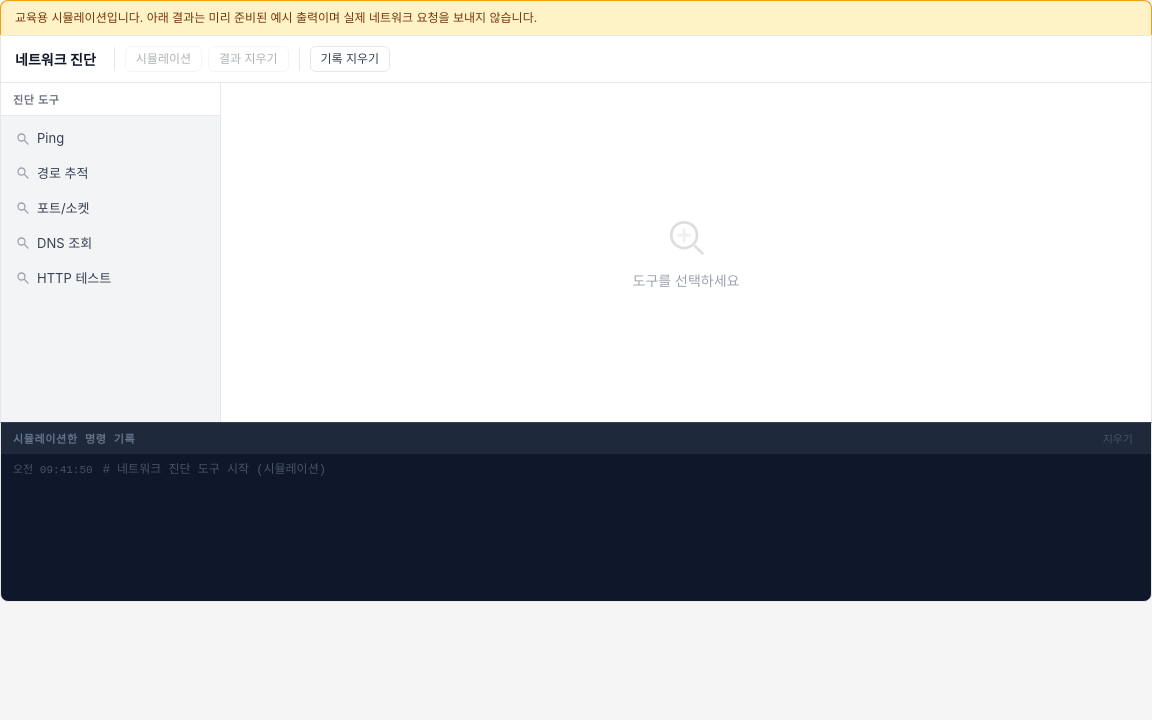
Scenario: NetworkDiagnostics simulation page › rejects a host containing shell metacharacters and produces no output
The width and height of the screenshot is (1152, 720).
Click the text "Ping" at coordinates (51, 138), box [37,130,64,146]
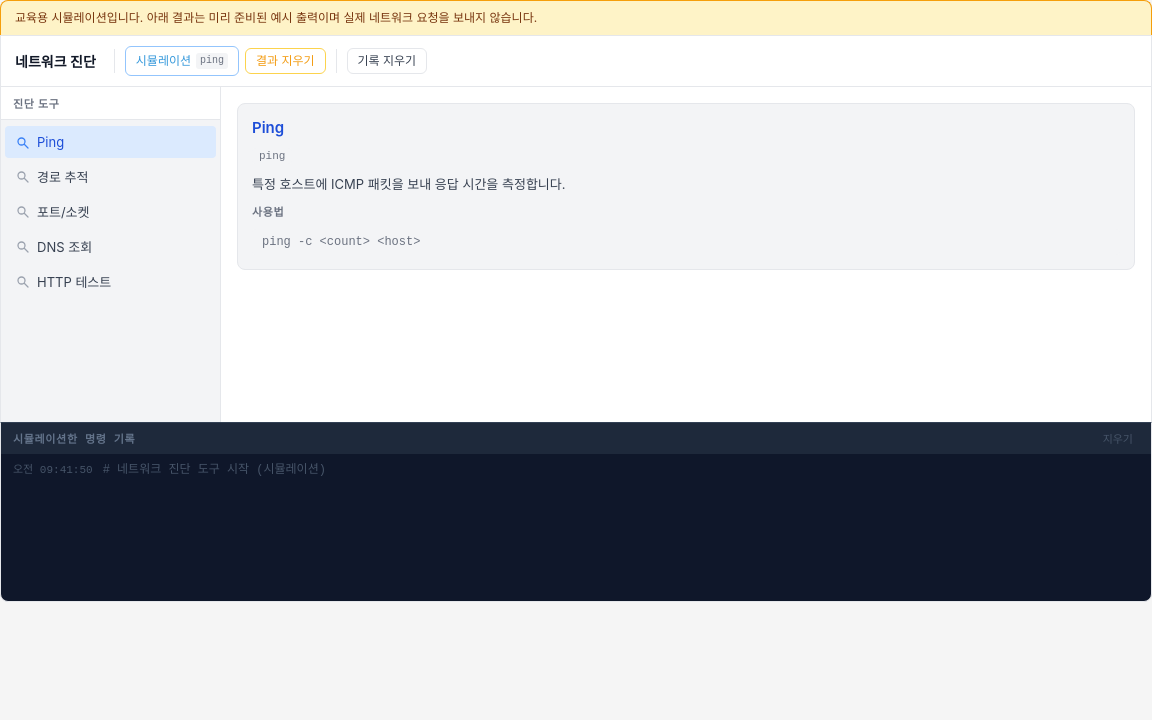
Click the button "시뮬레이션 ping" at coordinates (182, 61), box [125,46,239,76]
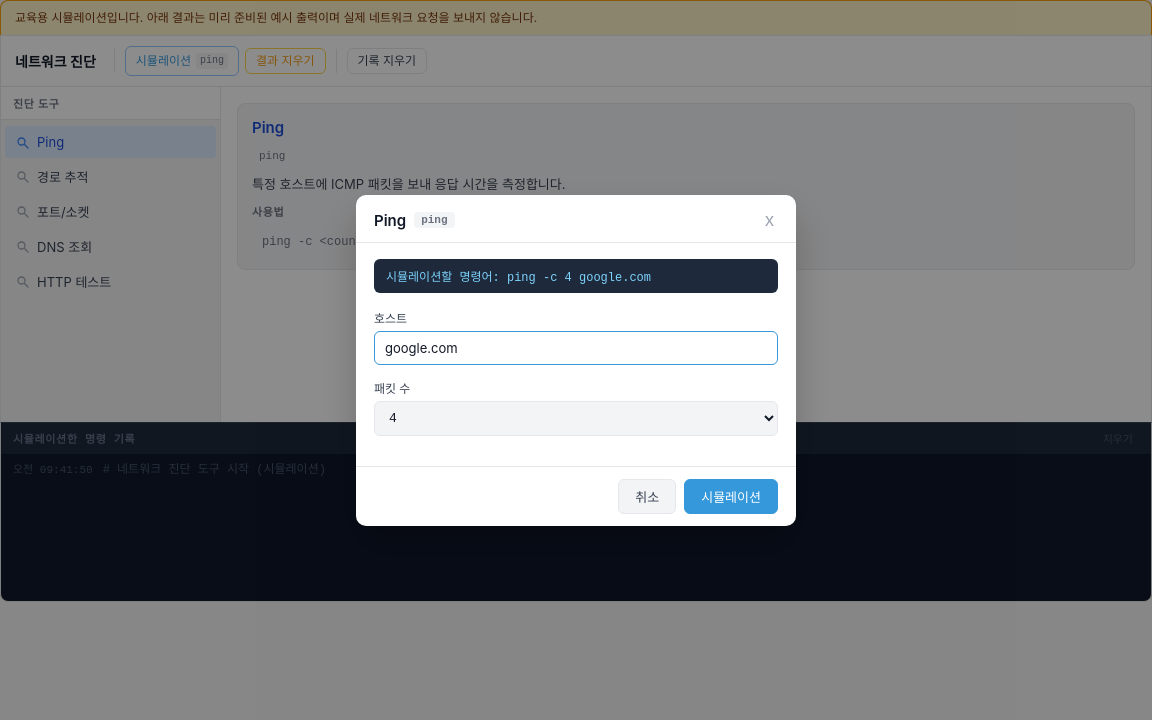
Replace the text in the field labelled "호스트" with "google.com; rm -rf /" at coordinates (576, 348), box [374,330,778,364]
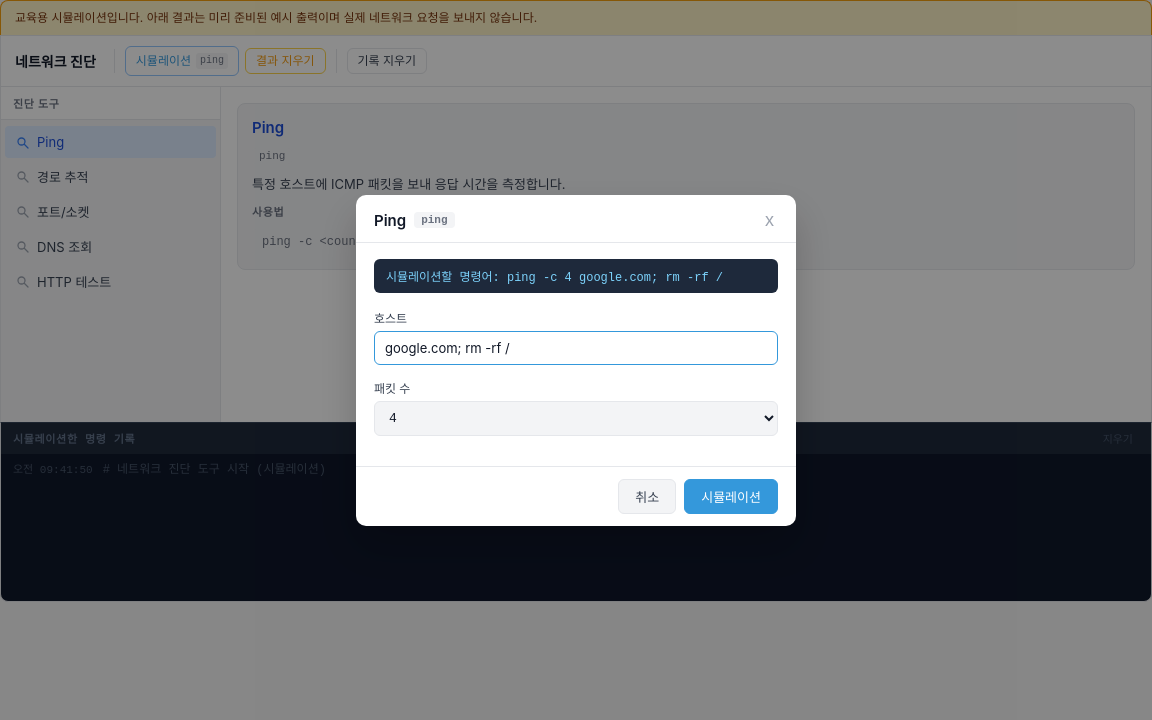
Click the button "시뮬레이션" at coordinates (731, 496), box [684,478,778,514]
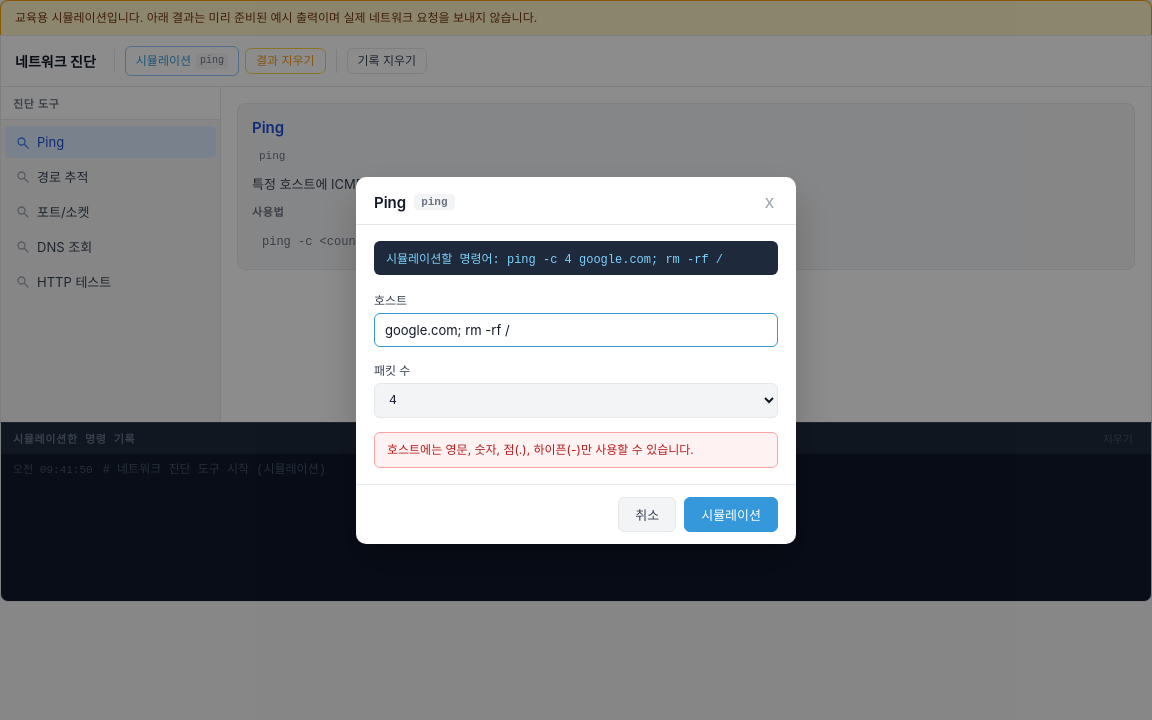
Result: the message reads "호스트에는 영문, 숫자, 점(.), 하이픈(-)만 사용할 수 있습니다." at [387,442,694,456]
